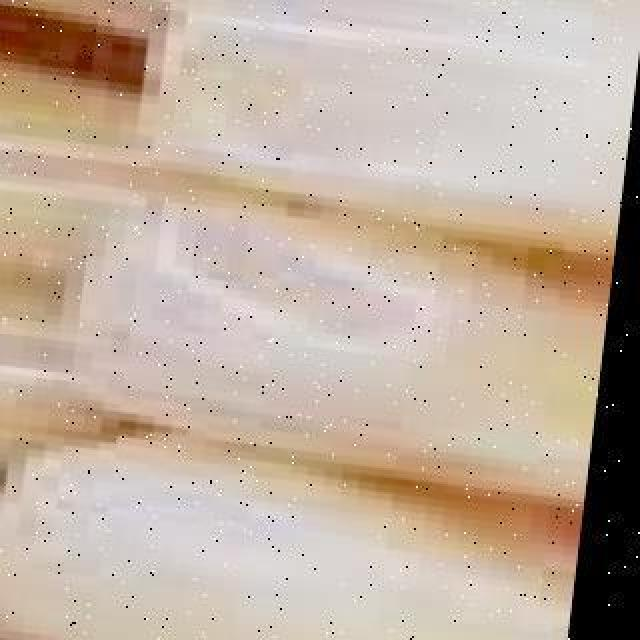spacing: (0, 0, 138, 68)
